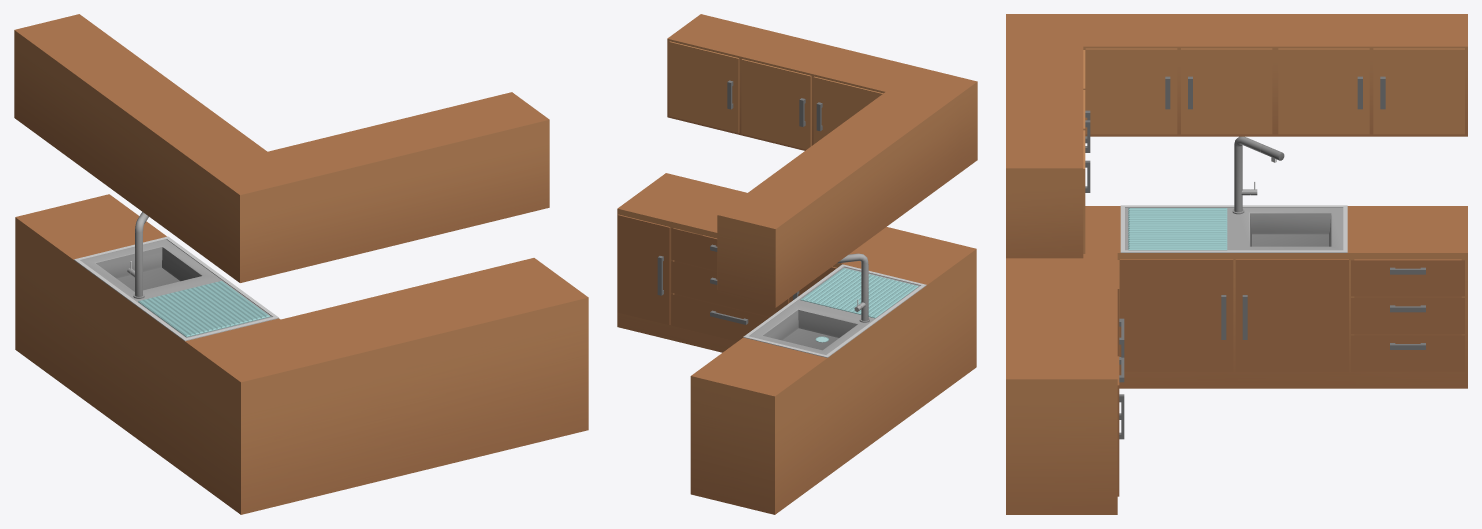
File: Kitchen.FBX
3 renders of one model, left to right at view 1: azimuth 30°, elevation 25°; view 2: azimuth 150°, elevation 25°; view 3: azimuth 270°, elevation 25°, orthographic. The views are drawn at different scales.
Visible parts, largest first — view 1: Kitchen, Kitchen_Top, PlaceToDry, Tap; view 2: Kitchen, Kitchen_Top, Door_Top_Right_005, Door_Top_Right_004, Door_Left_Left, PlaceToDry, Drawer_large_bottom, Door_Top_Front_005, Drawer_large_middle, Drawer_large_top, Tap; view 3: Kitchen, Kitchen_Top, Door_Front_Right, Door_Front_Left, Door_Top_Front_000, Door_Top_Front_001, Door_Top_Front_003, Door_Top_Front_002, Drawer_small_top, PlaceToDry, Drawer_small_bottom, Drawer_small_middle (+2 smaller).
Boxes of the visible parts, x1,y1,x2,y2 form: Kitchen: [15, 194, 588, 514]; Kitchen_Top: [14, 14, 549, 282]; PlaceToDry: [138, 281, 270, 337]; Tap: [127, 212, 148, 298]; Kitchen: [617, 173, 976, 514]; Kitchen_Top: [667, 14, 977, 307]; Door_Top_Right_005: [669, 41, 739, 132]; Door_Top_Right_004: [741, 59, 811, 149]; Door_Left_Left: [617, 214, 670, 324]; PlaceToDry: [800, 268, 918, 318]; Drawer_large_bottom: [671, 294, 768, 341]; Door_Top_Front_005: [813, 76, 883, 144]; Drawer_large_middle: [671, 261, 788, 316]; Drawer_large_top: [671, 228, 717, 270]; Tap: [837, 253, 869, 322]; Kitchen: [1006, 205, 1467, 514]; Kitchen_Top: [1006, 14, 1467, 258]; Door_Front_Right: [1235, 259, 1348, 371]; Door_Front_Left: [1120, 259, 1233, 371]; Door_Top_Front_000: [1373, 48, 1464, 134]; Door_Top_Front_001: [1278, 48, 1369, 134]; Door_Top_Front_003: [1181, 48, 1272, 134]; Door_Top_Front_002: [1085, 48, 1177, 134]; Drawer_small_top: [1351, 259, 1464, 296]; PlaceToDry: [1128, 208, 1227, 250]; Drawer_small_bottom: [1351, 335, 1464, 371]; Drawer_small_middle: [1351, 298, 1464, 333].
Size of the model in its own units: 94.75 by 83.1 by 106.
